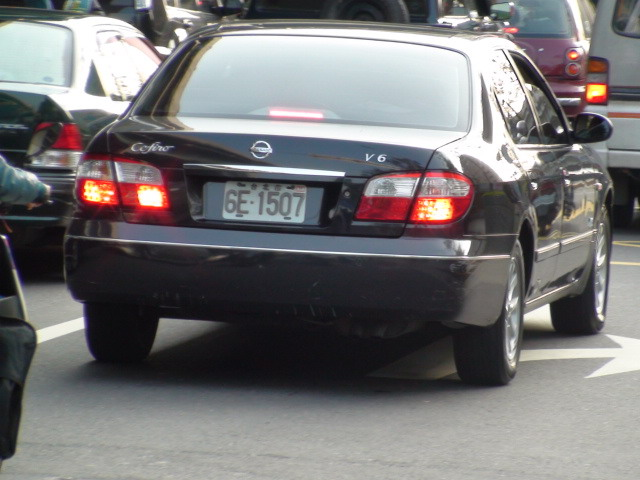plate: (222, 177, 307, 230)
